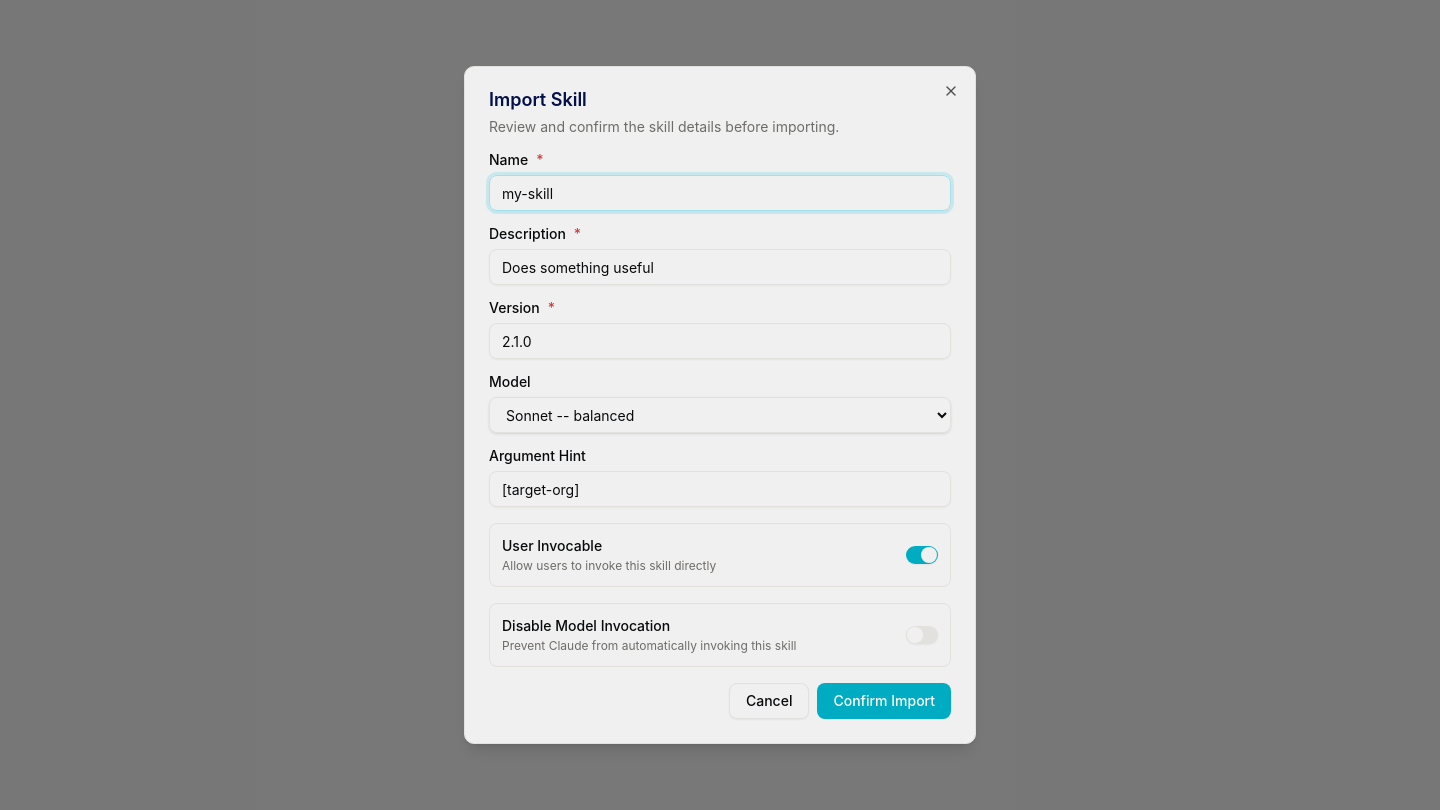
ImportSkillDialog › conflict_overwrite_required error › shows overwrite confirmation prompt when importSkillFromFile rejects with conflict_overwrite_required
Click the button "Confirm Import".
click(884, 701)  # box [817,683,951,719]
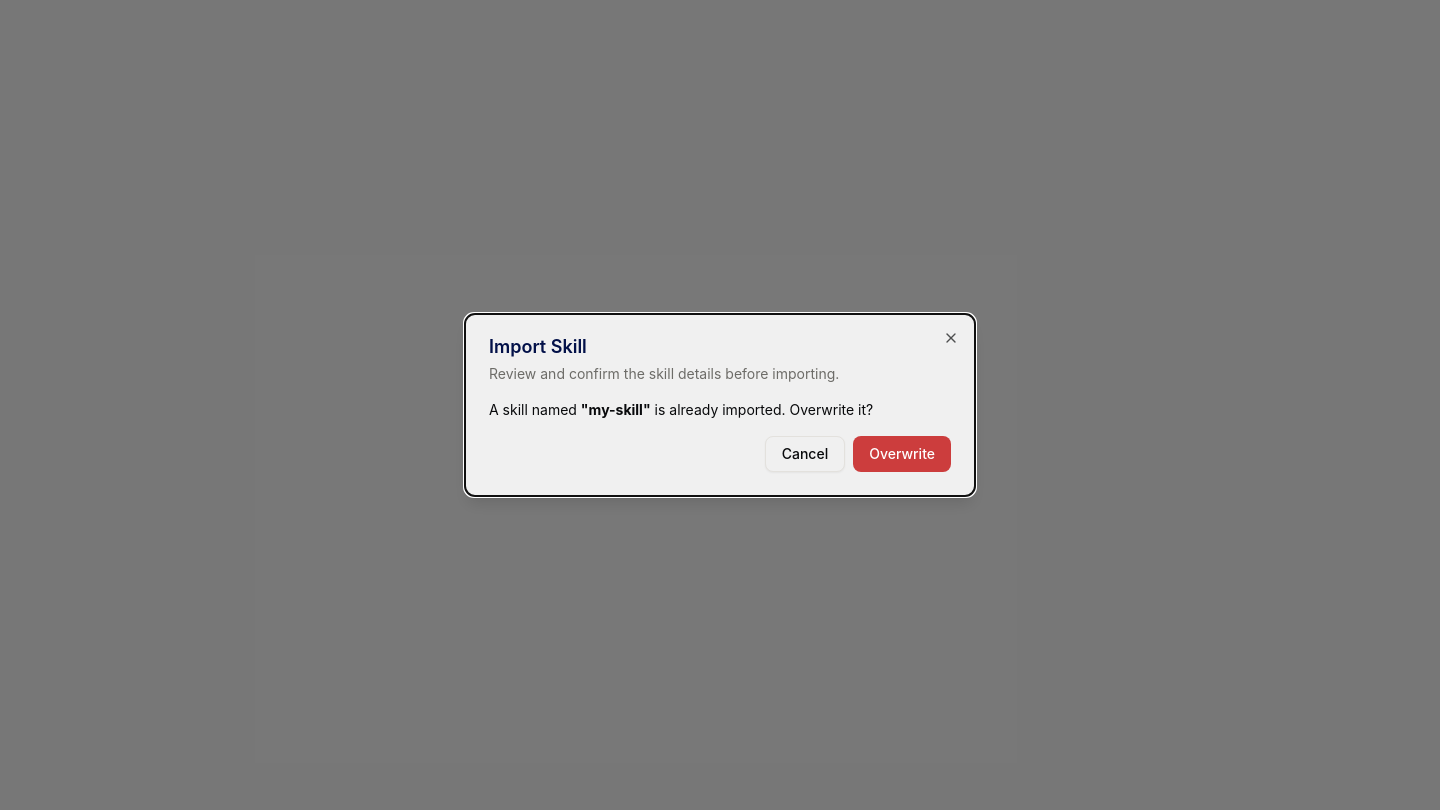
Result: the button "Overwrite" is shown at [853,436,951,472]
